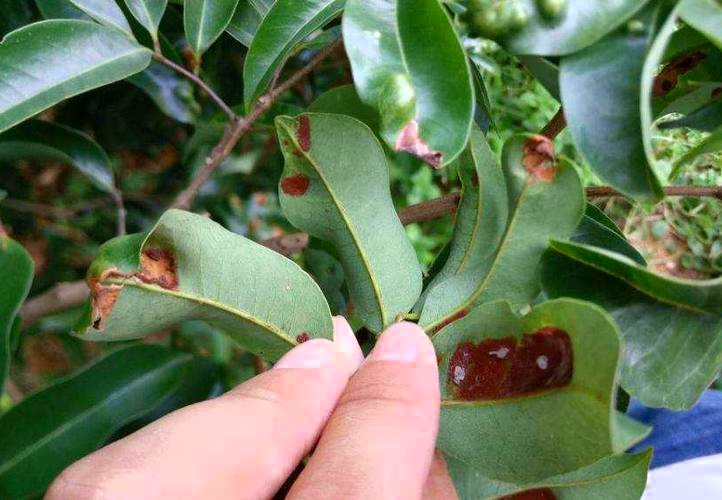Gall_Mite: (390, 89, 555, 206), (400, 308, 568, 387), (78, 228, 184, 318), (239, 94, 316, 198)
